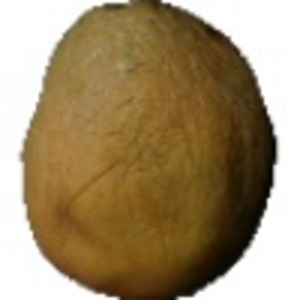mamão: (17, 3, 280, 295)
